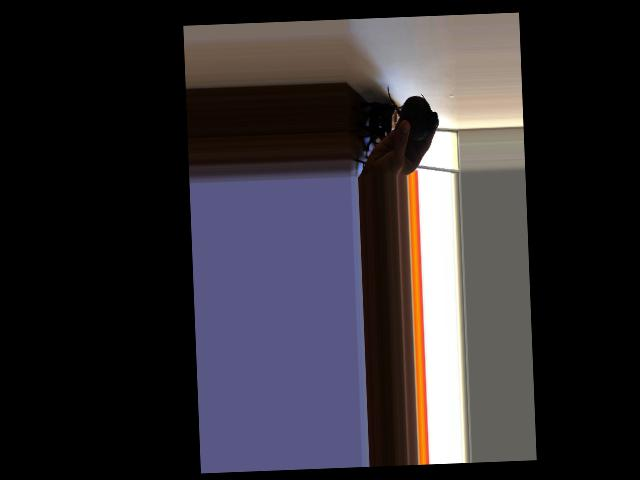beet: (387, 83, 439, 141)
